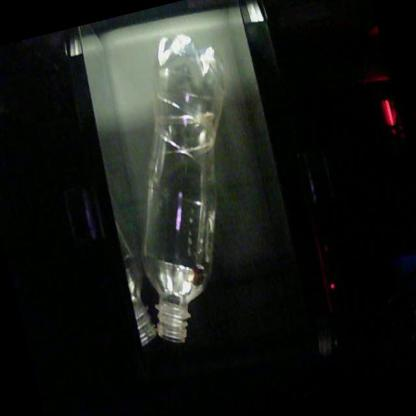Plastic Bottle: (144, 34, 224, 342)
